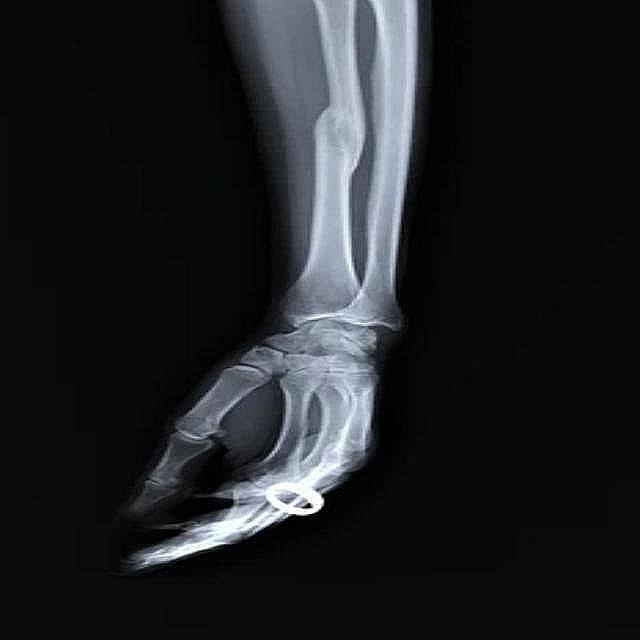bone: (303, 91, 371, 183)
